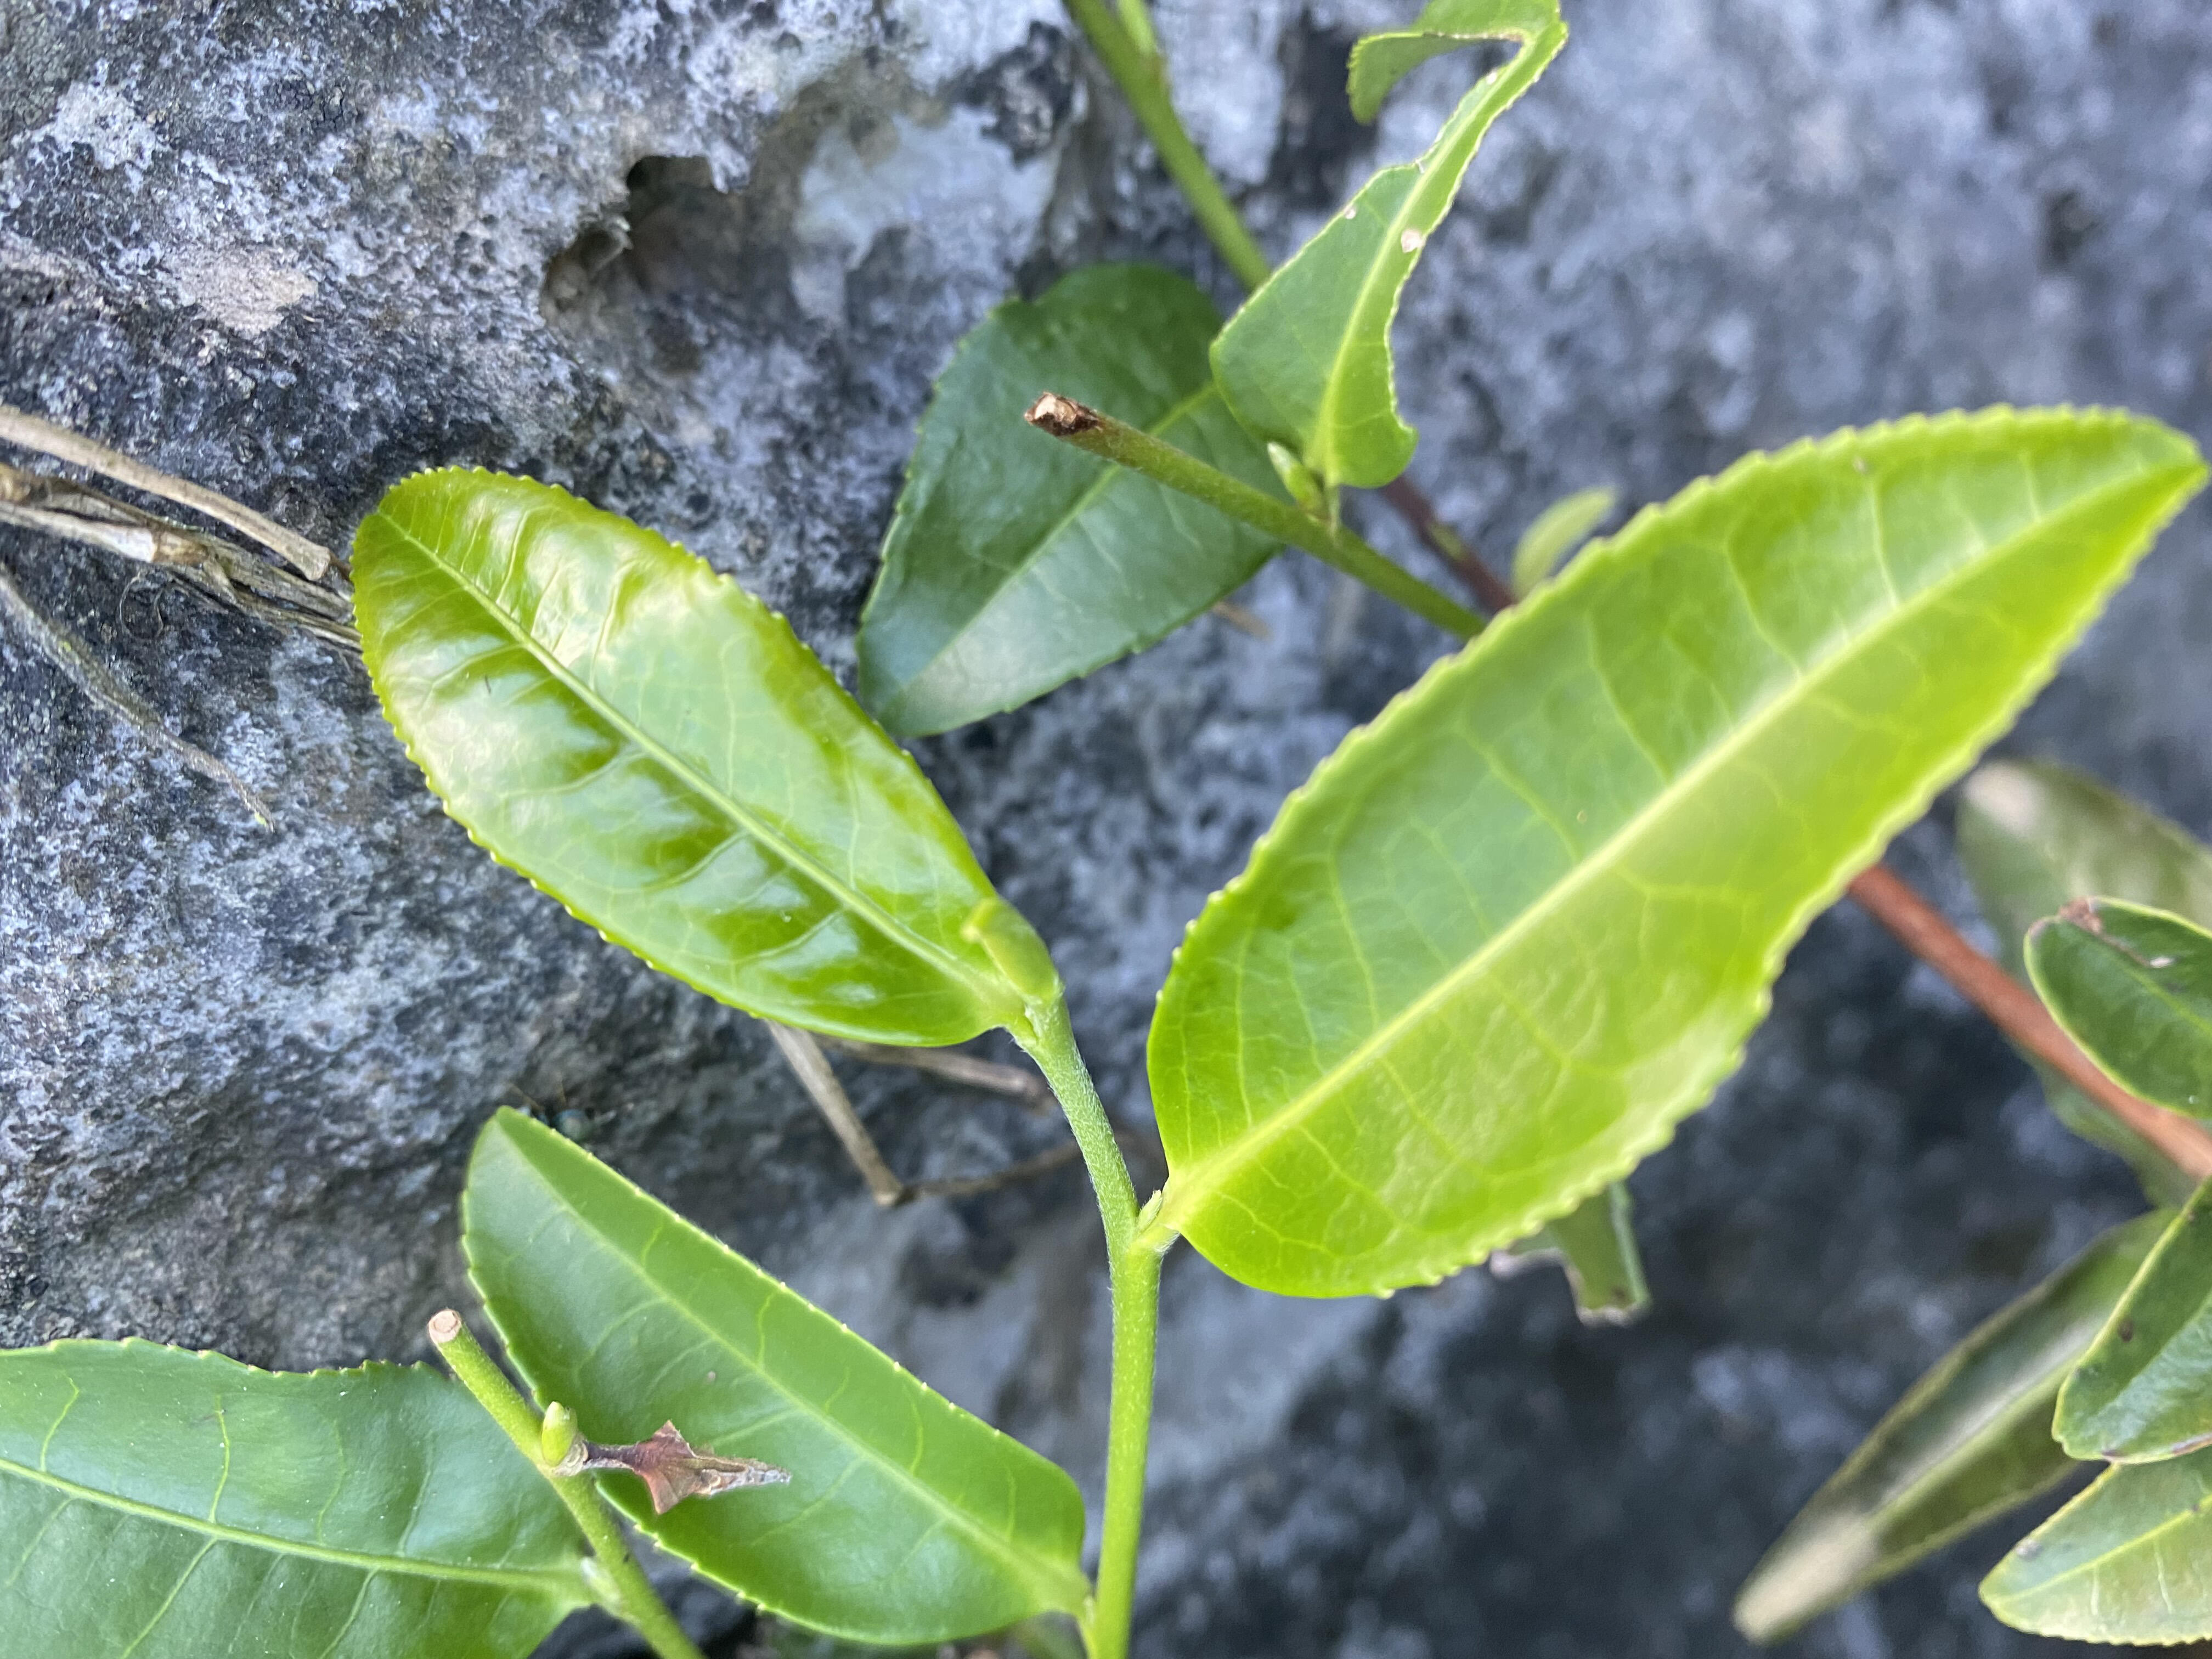chihuo_high: (1204, 2, 1575, 493)
healthy: (1141, 406, 2207, 1310), (348, 464, 1031, 1046)
tanju_high: (2022, 892, 2212, 1121)
